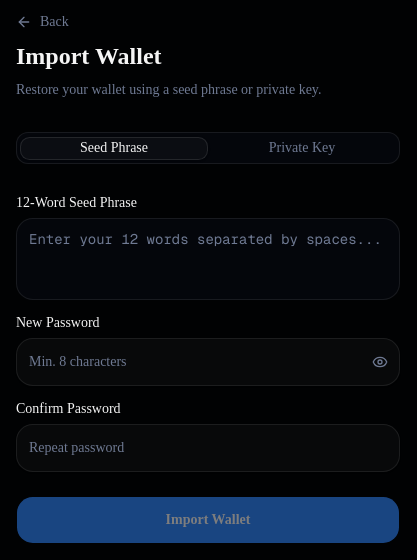
it: ImportWalletPage › switches to private key tab on click
Click the tab "Private Key" at (302, 148), box [208,136,396,160]
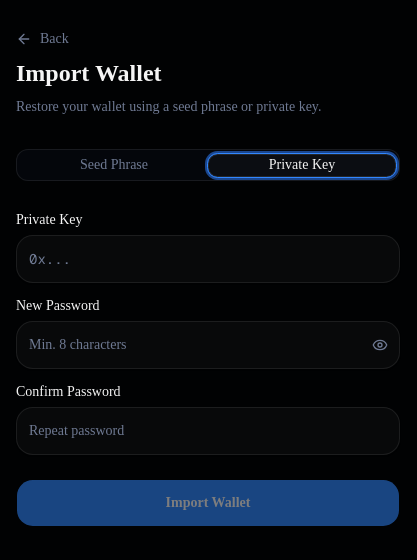
expect the field with placeholder "0x..." is shown: met, box [16,235,400,283]
